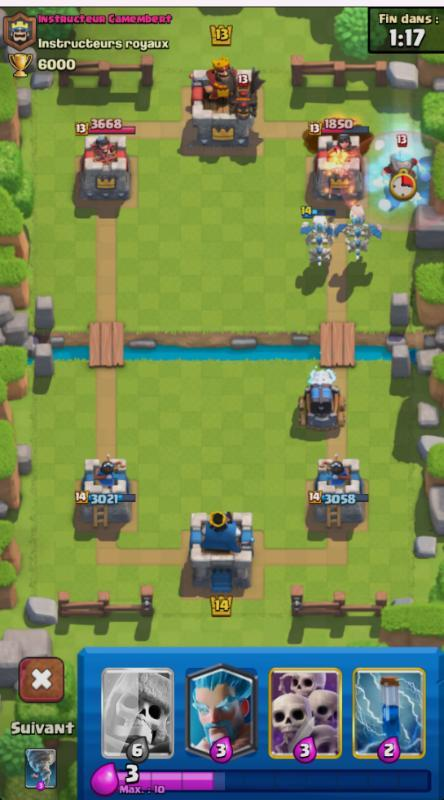enemy_ice_wizard: (373, 134, 426, 199)
player_skeleton_dragon: (336, 201, 386, 271), (293, 201, 344, 269)
player_sparky: (286, 359, 352, 439)
